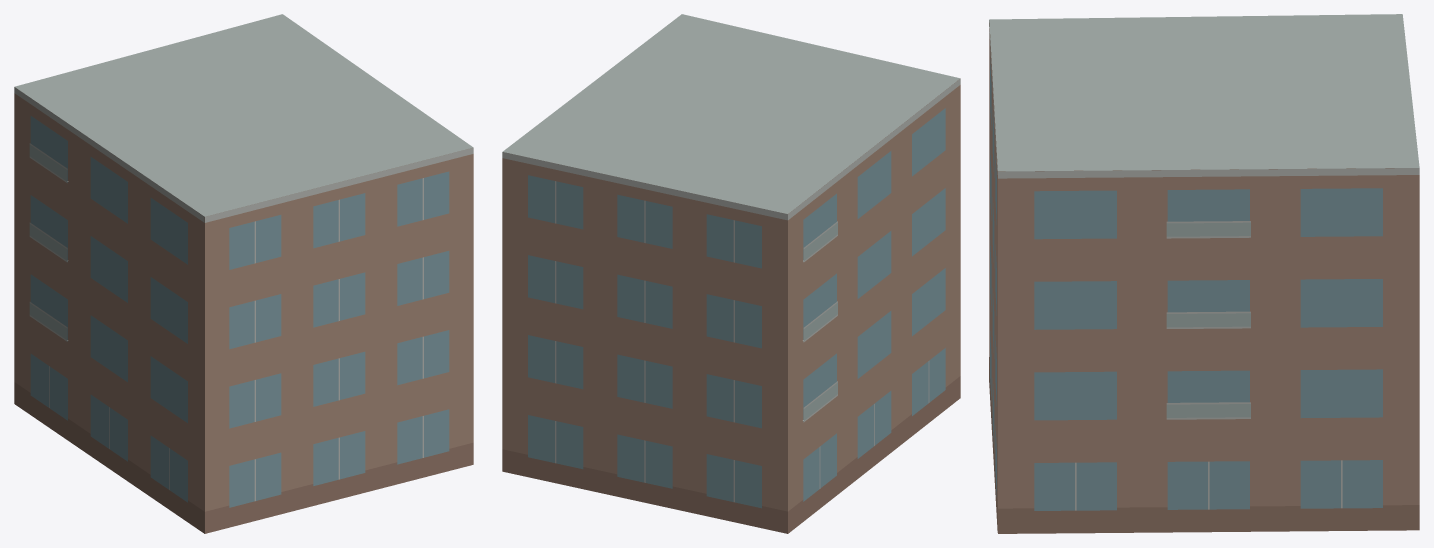
File: survey-upis-32479651.glb
The picture shows the model from 3 angles, left to right: view 1: azimuth 30°, elevation 25°; view 2: azimuth 150°, elevation 25°; view 3: azimuth 270°, elevation 25°; orthographic projection. The views are drawn at different scales.
Parts seen in each view (by area): view 1: survey-upis-32479651.tmp; view 2: survey-upis-32479651.tmp; view 3: survey-upis-32479651.tmp.
Part boxes in pixels (x1,y1,x2,y2): survey-upis-32479651.tmp: (14,14,473,533); survey-upis-32479651.tmp: (502,14,960,533); survey-upis-32479651.tmp: (989,14,1419,533).
Size of the model in its own units: 11.56 by 12.4 by 13.36.
